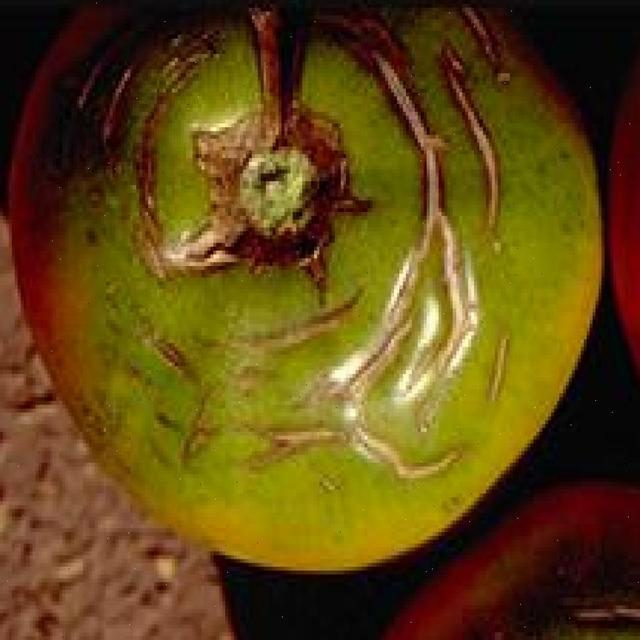Cracking Fruit: (18, 28, 336, 307)
